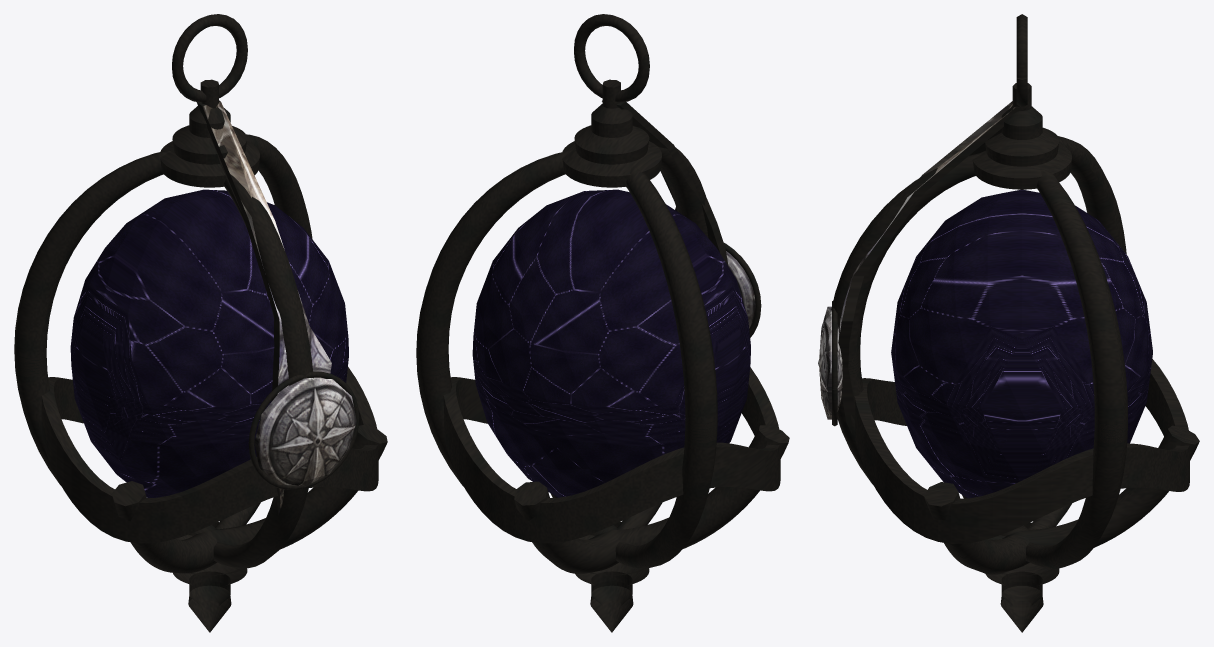
Rendered from stormorbit.glb.
3 renders of one model, left to right at view 1: azimuth 30°, elevation 25°; view 2: azimuth 150°, elevation 25°; view 3: azimuth 270°, elevation 25°, orthographic.
Parts seen in each view (by area): view 1: Stormstone full faceted volume, Broad fitted lower cage straps, Swept metal cage rib.002, Front star medallion seat, Swept metal cage rib, Engraved central cage spear, Stepped cage collar, Lower cage fork.002, Lower cage fork, Swept metal cage rib.001, Orb hanger, Star rim (+2 smaller); view 2: Stormstone full faceted volume, Broad fitted lower cage straps, Swept metal cage rib.002, Swept metal cage rib.001, Stepped cage collar, Lower cage fork.002, Lower cage fork.001, Orb hanger, Swept metal cage rib, Engraved central cage spear, Stepped cage collar.001, Terminal solid finial (+2 smaller); view 3: Stormstone full faceted volume, Broad fitted lower cage straps, Swept metal cage rib.001, Swept metal cage rib, Stepped cage collar, Engraved central cage spear, Lower cage fork.001, Lower cage fork, Swept metal cage rib.002, Stepped cage collar.001, Front star medallion seat, Orb hanger (+2 smaller).
Boxes of the visible parts, x1,y1,x2,y2 form: Stormstone full faceted volume: (70, 189, 348, 497); Broad fitted lower cage straps: (41, 367, 378, 543); Swept metal cage rib.002: (14, 150, 193, 540); Front star medallion seat: (254, 378, 356, 486); Swept metal cage rib: (213, 174, 313, 568); Engraved central cage spear: (196, 100, 331, 515); Stepped cage collar: (160, 106, 259, 187); Lower cage fork.002: (112, 481, 217, 573); Lower cage fork: (209, 424, 387, 562); Swept metal cage rib.001: (215, 134, 312, 529); Orb hanger: (172, 14, 247, 102); Star rim: (248, 371, 359, 489); Stormstone full faceted volume: (472, 189, 750, 499); Broad fitted lower cage straps: (443, 367, 780, 543); Swept metal cage rib.002: (615, 164, 717, 568); Swept metal cage rib.001: (416, 149, 594, 539); Stepped cage collar: (562, 104, 661, 187); Lower cage fork.002: (612, 425, 789, 548); Lower cage fork.001: (514, 481, 619, 573); Orb hanger: (574, 14, 649, 102); Swept metal cage rib: (617, 146, 708, 529); Engraved central cage spear: (602, 100, 728, 266); Stepped cage collar.001: (575, 522, 649, 605); Terminal solid finial: (590, 581, 633, 632); Stormstone full faceted volume: (891, 189, 1152, 498); Broad fitted lower cage straps: (854, 359, 1189, 543); Swept metal cage rib.001: (1026, 166, 1127, 568); Swept metal cage rib: (831, 152, 1005, 539); Stepped cage collar: (972, 106, 1071, 189); Engraved central cage spear: (838, 101, 1026, 434); Lower cage fork.001: (1022, 425, 1199, 562); Lower cage fork: (924, 482, 1029, 574); Swept metal cage rib.002: (1027, 136, 1126, 529); Stepped cage collar.001: (985, 522, 1059, 605); Front star medallion seat: (819, 306, 842, 419); Orb hanger: (1016, 14, 1027, 107).
Size of the model in its own units: 0.1212 by 0.24 by 0.135.
3 materials, 3 textured.
